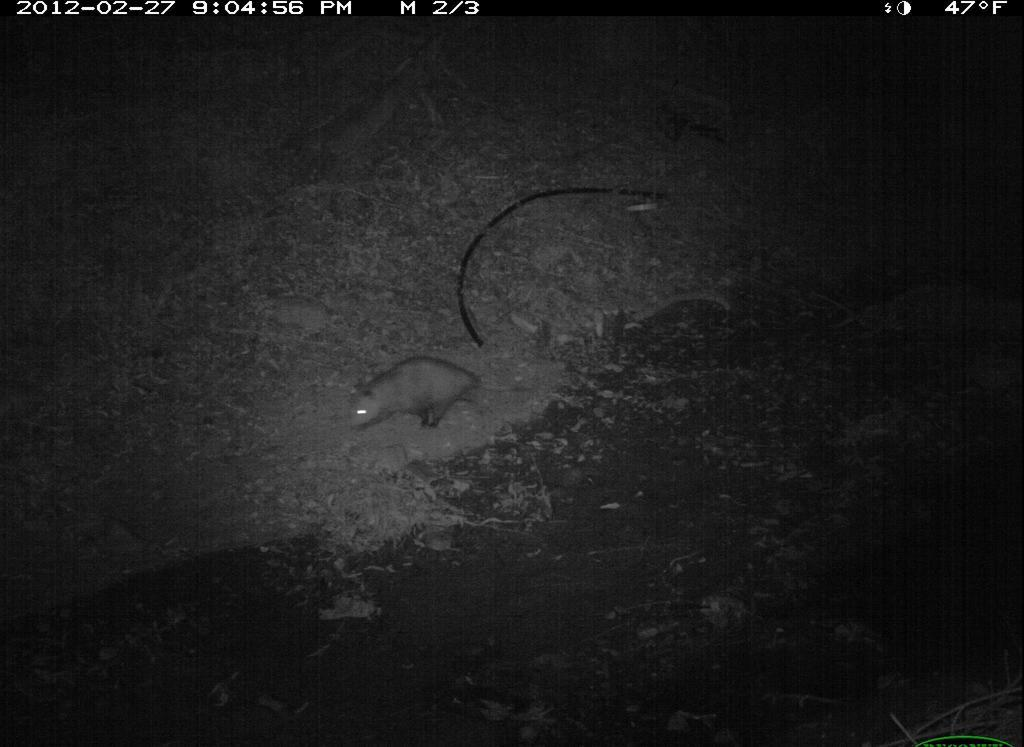opossum: (338, 353, 514, 438)
